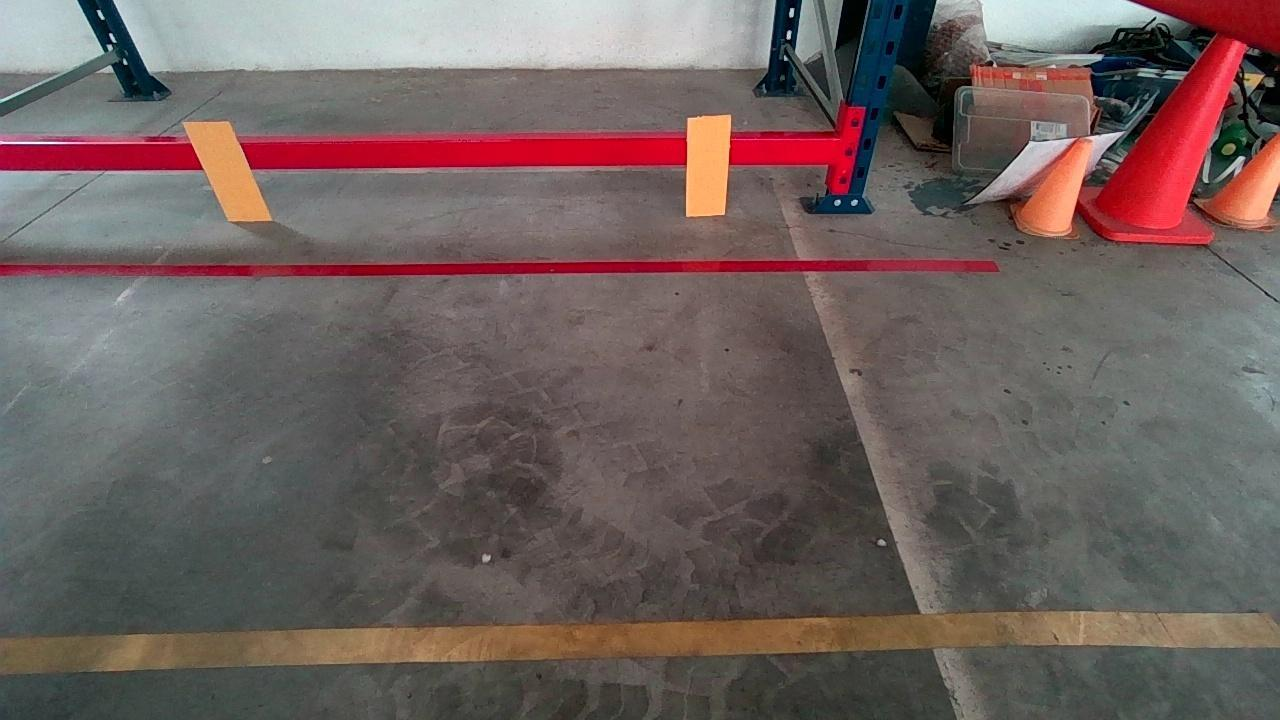h_rack: (0, 134, 838, 167)
orange_strip: (184, 121, 271, 220), (686, 116, 731, 214)
red_line: (0, 256, 997, 277)
yellow_line: (0, 603, 1273, 681)
